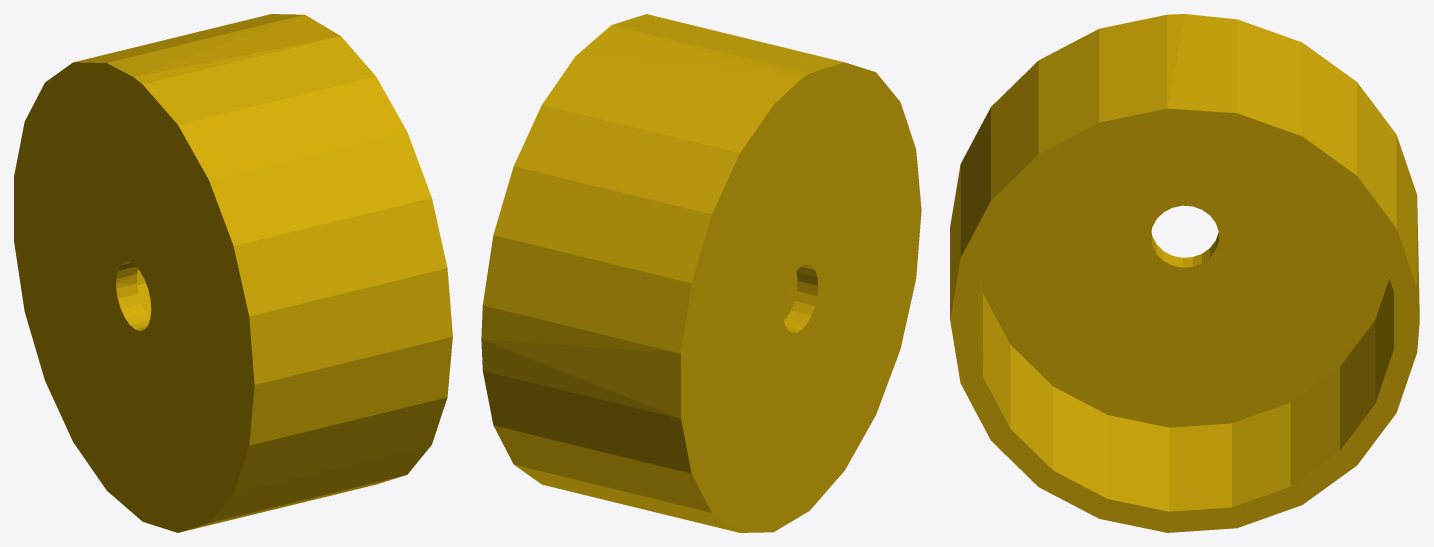
The model's file is piston.glb.
The picture shows the model from 3 angles, left to right: view 1: azimuth 30°, elevation 25°; view 2: azimuth 150°, elevation 25°; view 3: azimuth 270°, elevation 25°; orthographic projection. The views are drawn at different scales.
Parts seen in each view (by area): view 1: Node1; view 2: Node1; view 3: Node1.
Part boxes in pixels (<box>): Node1: <box>14,14,452,532</box>; Node1: <box>481,14,921,532</box>; Node1: <box>950,14,1419,532</box>.
Size of the model in its own units: 6 by 12.66 by 12.68.
